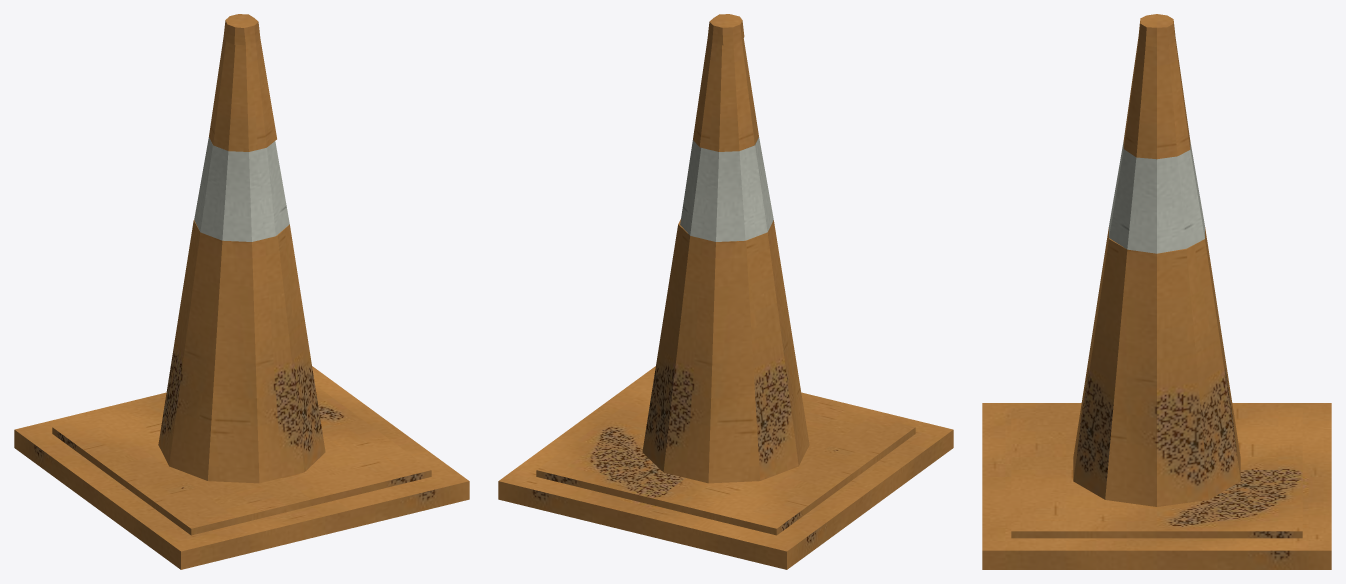
The picture shows the model from 3 angles, left to right: view 1: azimuth 30°, elevation 25°; view 2: azimuth 150°, elevation 25°; view 3: azimuth 270°, elevation 25°; orthographic projection. The views are drawn at different scales.
Parts seen in each view (by area): view 1: Variant_cone_3; view 2: Variant_cone_3; view 3: Variant_cone_3.
Boxes of the visible parts, <box> form: Variant_cone_3: <box>14,14,469,569</box>; Variant_cone_3: <box>498,14,953,569</box>; Variant_cone_3: <box>982,14,1331,569</box>.
Size of the model in its own units: 0.36 by 0.54 by 0.36.
2 materials, 2 textured.
